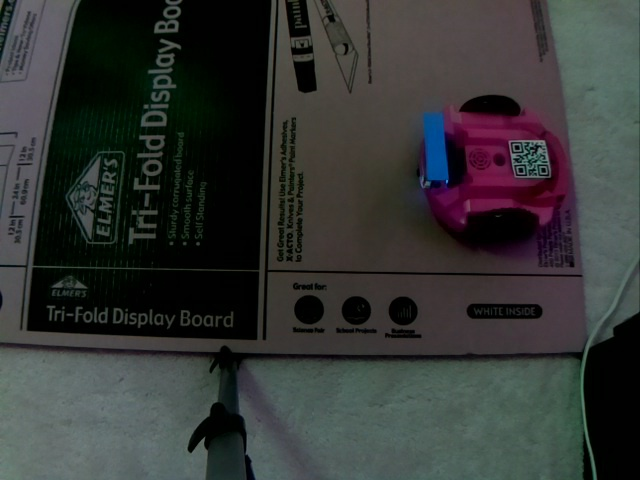chassis: (406, 90, 583, 241)
qr: (507, 134, 558, 180)
